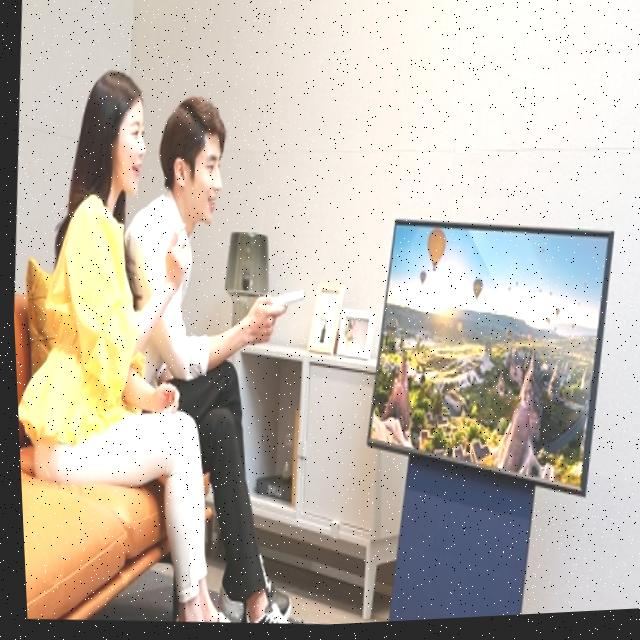tv-person: (2, 24, 638, 608), (113, 33, 639, 607)
